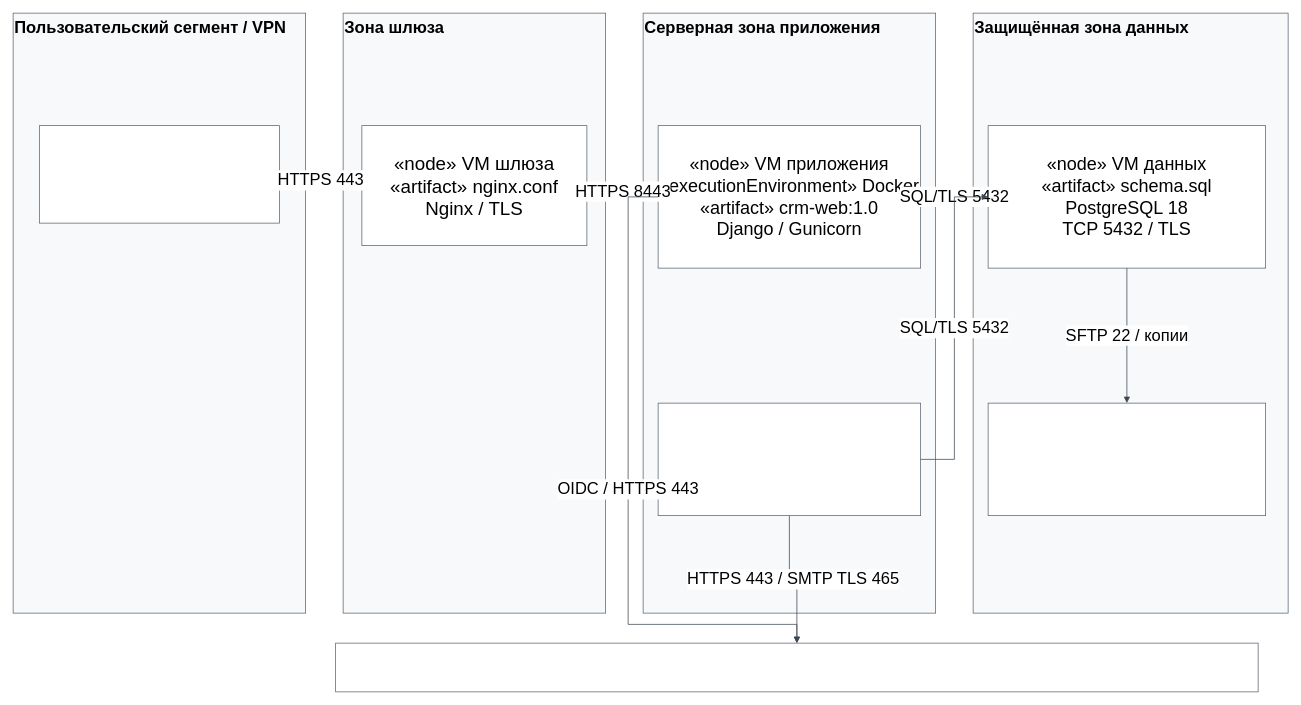
Some shapes in this 1301 by 705 pixel diagram are drawn without their labels. The shapes that lost their labels are listed below. From the top down, each one's centre as x and y in pixels, then its label:
(x=159, y=174): «device» Рабочая станция Браузер
(x=789, y=459): «artifact» crm-worker:1.0 Планировщик / worker Очередь в PostgreSQL
(x=1126, y=459): «node» Резервное хранилище Копии БД и документов Отдельный носитель / ключ
(x=796, y=667): Внешние сервисы: IdP, подключение/биллинг, почтовый шлюз
